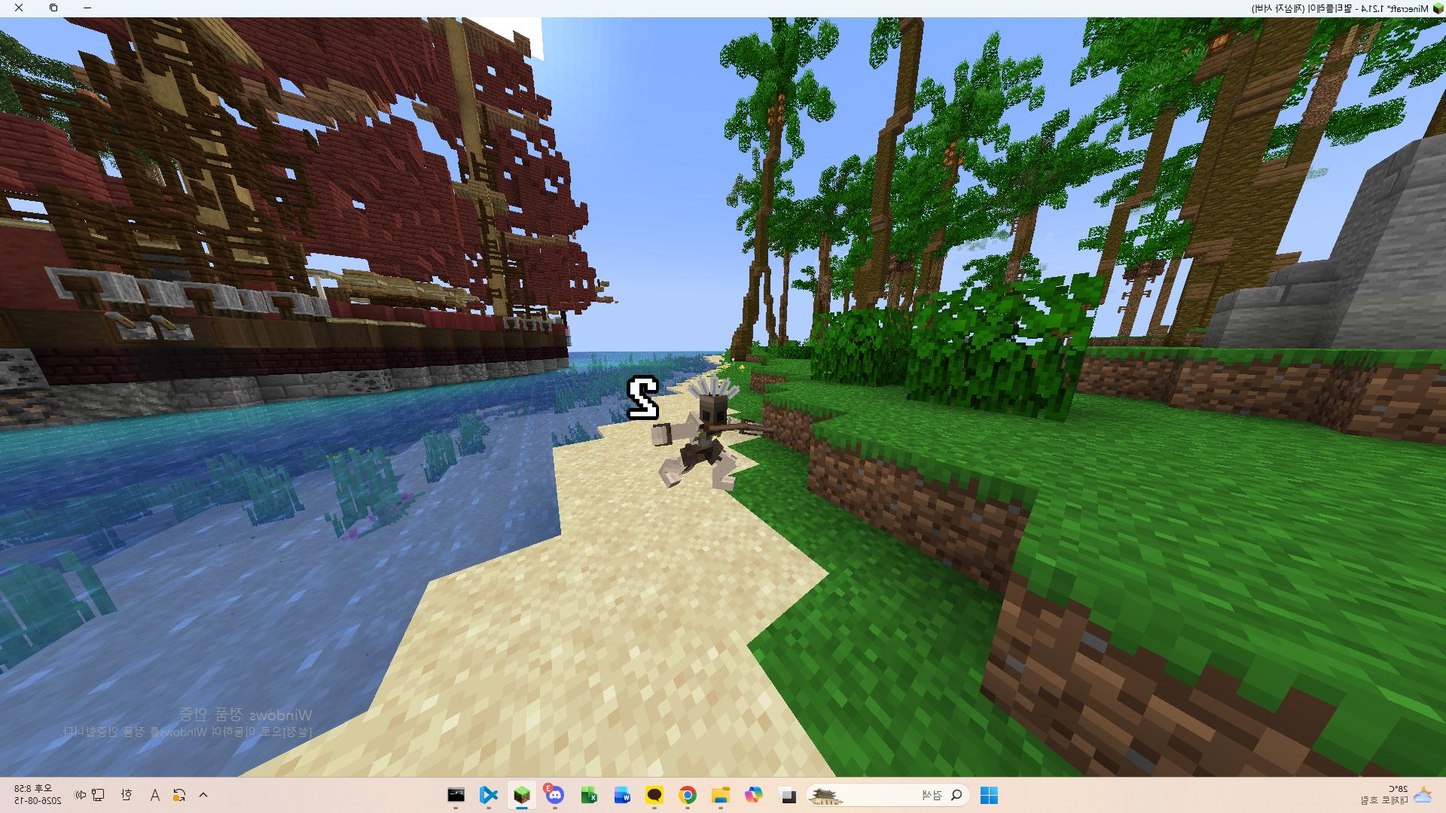bow_indian: (618, 373, 769, 504)
